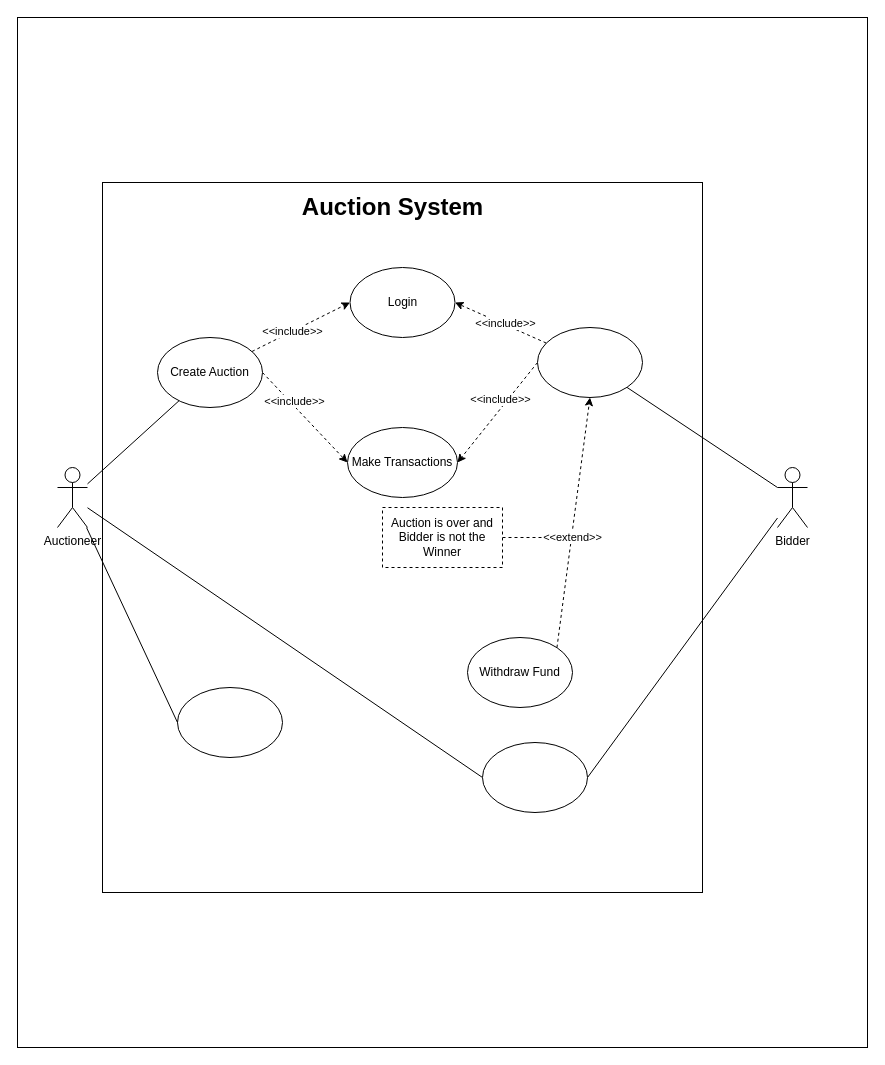
This 885x1065 diagram has some shape labels left out. Here are the shapes that lost their labels. From the top down, the centre of each, then its label:
At pixel 589 362: "Bid".
At pixel 229 722: "Read My Profile Auction".
At pixel 535 777: "Read Auctions".
